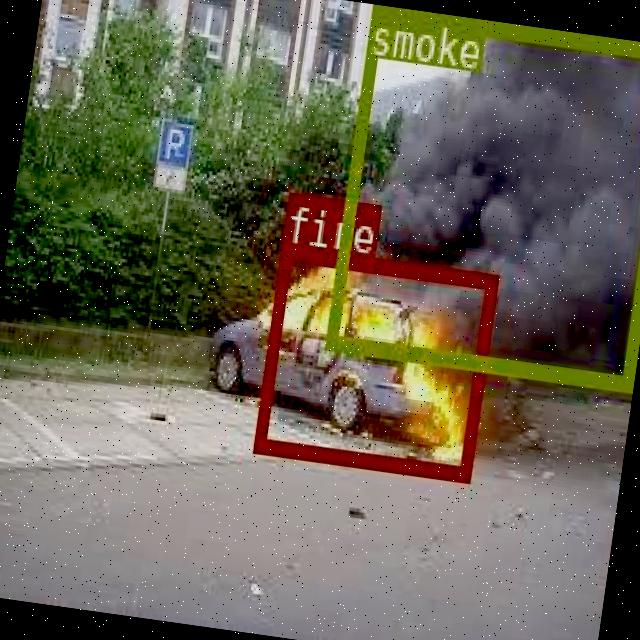fire: (252, 242, 496, 478)
smoke: (322, 4, 640, 387)
